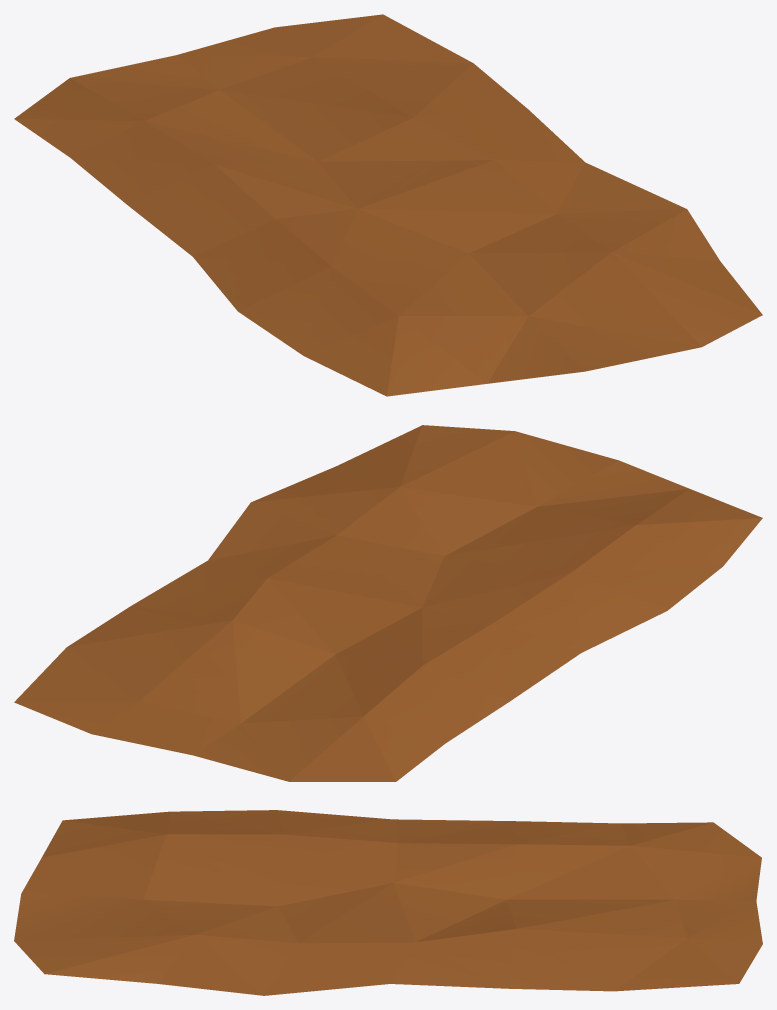
The model's file is cGround_C_9__.glb.
The picture shows the model from 3 angles, top to bottom: view 1: azimuth 30°, elevation 25°; view 2: azimuth 150°, elevation 25°; view 3: azimuth 270°, elevation 25°; orthographic projection. The views are drawn at different scales.
Visible parts, largest first — view 1: cGround_C_9; view 2: cGround_C_9; view 3: cGround_C_9.
Boxes of the visible parts, bbox=[...] form: cGround_C_9: bbox=[14, 14, 762, 396]; cGround_C_9: bbox=[14, 425, 762, 781]; cGround_C_9: bbox=[14, 810, 762, 995].
Bounding box in the file's own units: 10.09 × 0.4133 × 17.18.
Materials: 1 (1 with a texture image).
